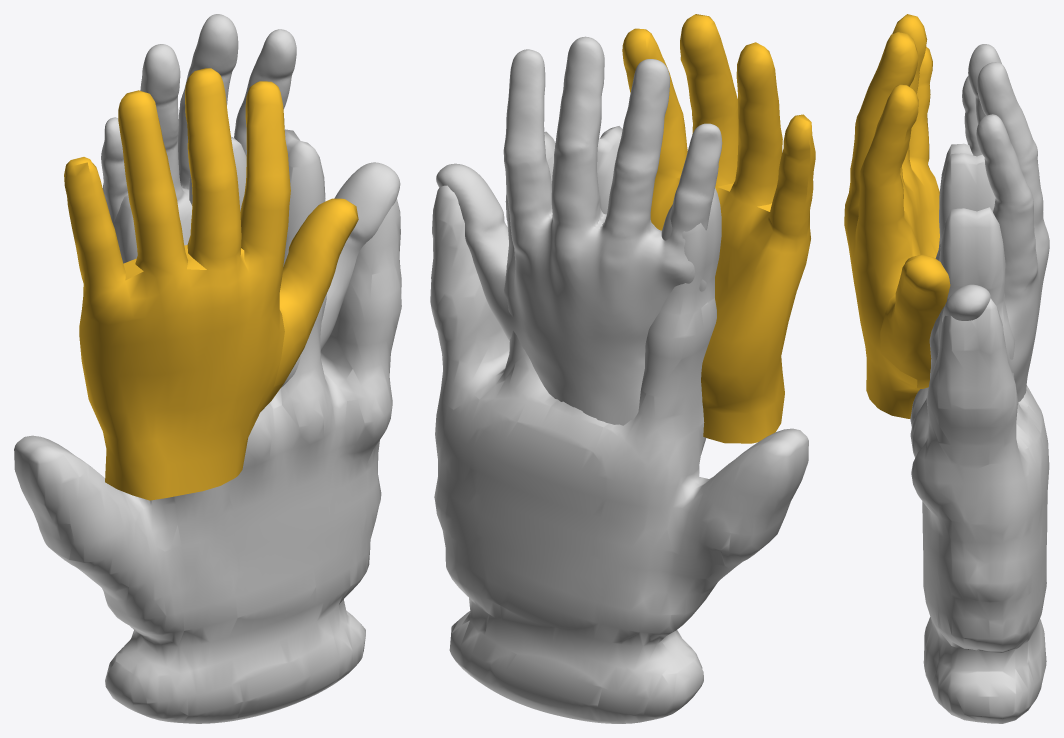
Rendered from armL.fbx.
3 renders of one model, left to right at view 1: azimuth 30°, elevation 25°; view 2: azimuth 150°, elevation 25°; view 3: azimuth 270°, elevation 25°, orthographic. The views are drawn at different scales.
Parts seen in each view (by area): view 1: Mball.025, Plane, 16834_hand_v1_NEW; view 2: Mball.025, 16834_hand_v1_NEW, Plane; view 3: Mball.025, Plane, 16834_hand_v1_NEW.
Part boxes in pixels (<box>): Mball.025: <box>14,129,401,723</box>; Plane: <box>64,68,358,500</box>; 16834_hand_v1_NEW: <box>101,14,400,387</box>; Mball.025: <box>430,126,808,723</box>; 16834_hand_v1_NEW: <box>436,36,722,425</box>; Plane: <box>622,14,815,443</box>; Mball.025: <box>910,143,1049,723</box>; Plane: <box>844,14,950,418</box>; 16834_hand_v1_NEW: <box>930,44,1049,401</box>.
Bounding box in the file's own units: 1897 × 3386 × 1003.
